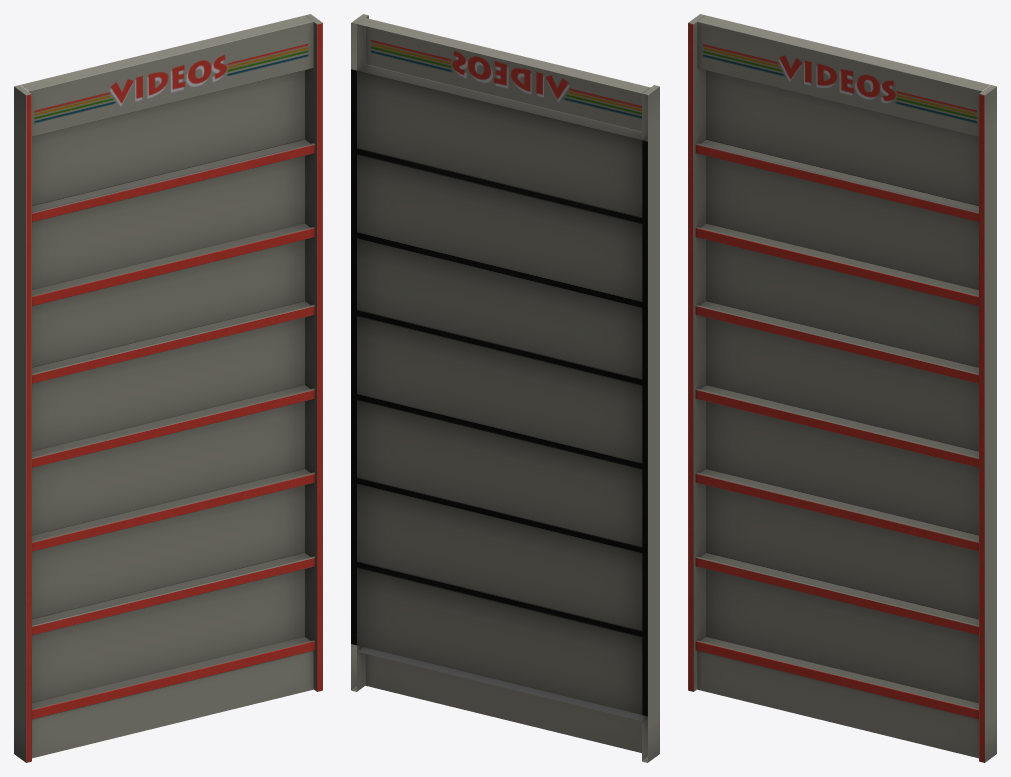
The model's file is video_store_shelf_big.fbx.
3 views of the same model, side by side, from view 1: azimuth 30°, elevation 25°; view 2: azimuth 150°, elevation 25°; view 3: azimuth 330°, elevation 25° (orthographic).
Visible parts, largest first — view 1: Mesh11_Group12_Group1_Model; view 2: Mesh11_Group12_Group1_Model; view 3: Mesh11_Group12_Group1_Model.
Boxes of the visible parts, x1,y1,x2,y2 form: Mesh11_Group12_Group1_Model: (14,14,322,762); Mesh11_Group12_Group1_Model: (351,14,659,762); Mesh11_Group12_Group1_Model: (688,14,996,762).
Bounding box in the file's own units: 100 × 215 × 7.
Materials: 1 (1 with a texture image).
